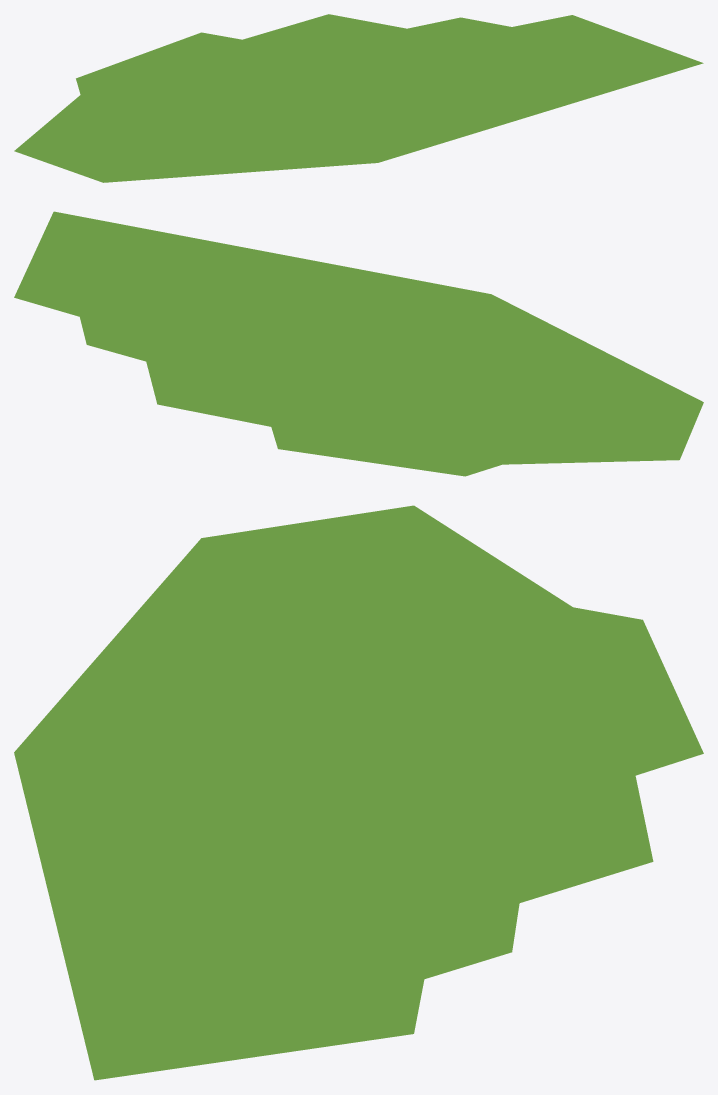
File: AkropolisWieseOben.fbx
3 views of the same model, one above another, from view 1: azimuth 30°, elevation 25°; view 2: azimuth 150°, elevation 25°; view 3: azimuth 270°, elevation 25° (orthographic). The views are drawn at different scales.
Parts seen in each view (by area): view 1: AkropolisWieseOben; view 2: AkropolisWieseOben; view 3: AkropolisWieseOben.
Part boxes in pixels (left/top/right/bottom): AkropolisWieseOben: left=14, top=14, right=703, bottom=182; AkropolisWieseOben: left=14, top=211, right=703, bottom=476; AkropolisWieseOben: left=14, top=505, right=703, bottom=1080.
Bounding box in the file's own units: 302 × 2.5e-05 × 153.
